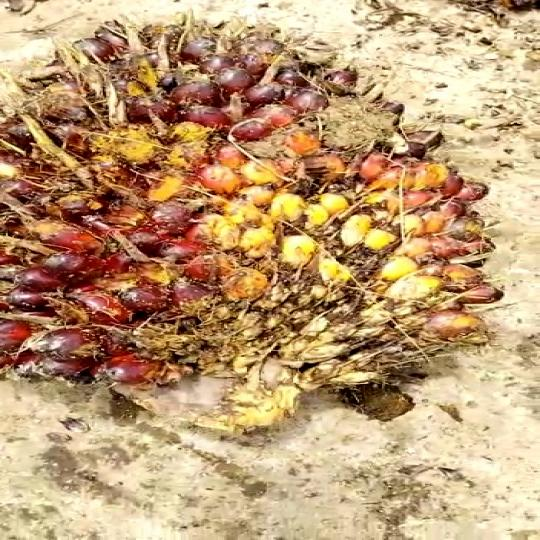masak: (0, 19, 494, 415)
